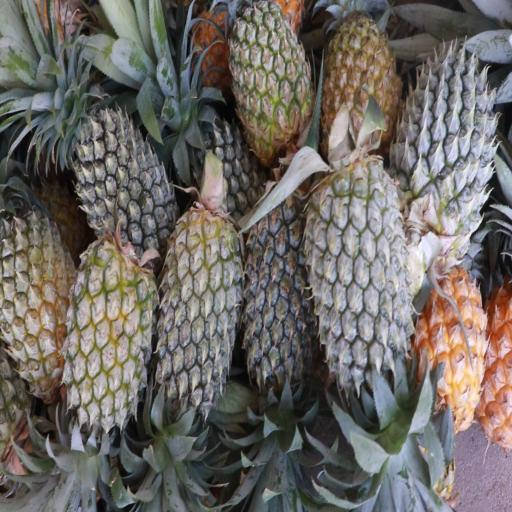------------------------------: (70, 241, 152, 432), (0, 208, 75, 399), (230, 0, 310, 161)
Pineapple - v8 v1: (416, 267, 491, 432), (319, 10, 399, 154)
